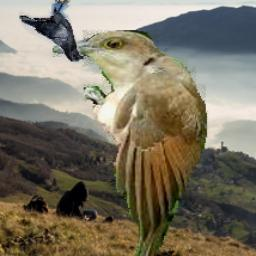Crow: (19, 0, 84, 63)
Cuckoo: (53, 31, 208, 256)
